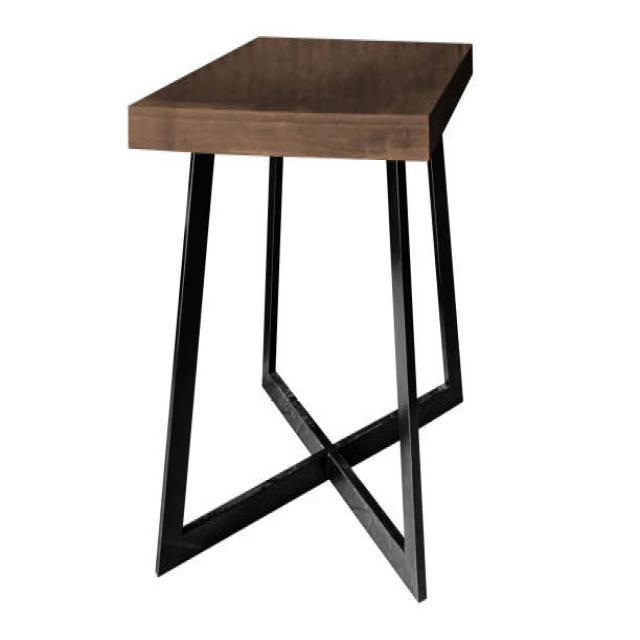table: (126, 32, 474, 602)
